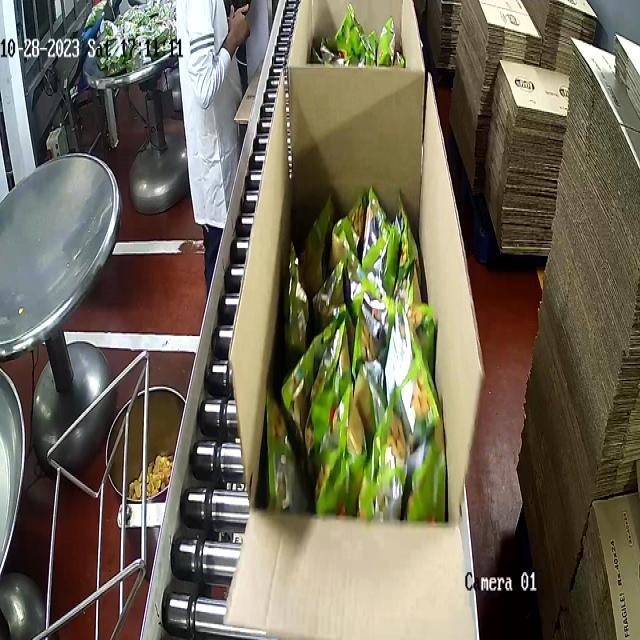YOGURT_HERB: (281, 192, 452, 523), (309, 8, 404, 71)
